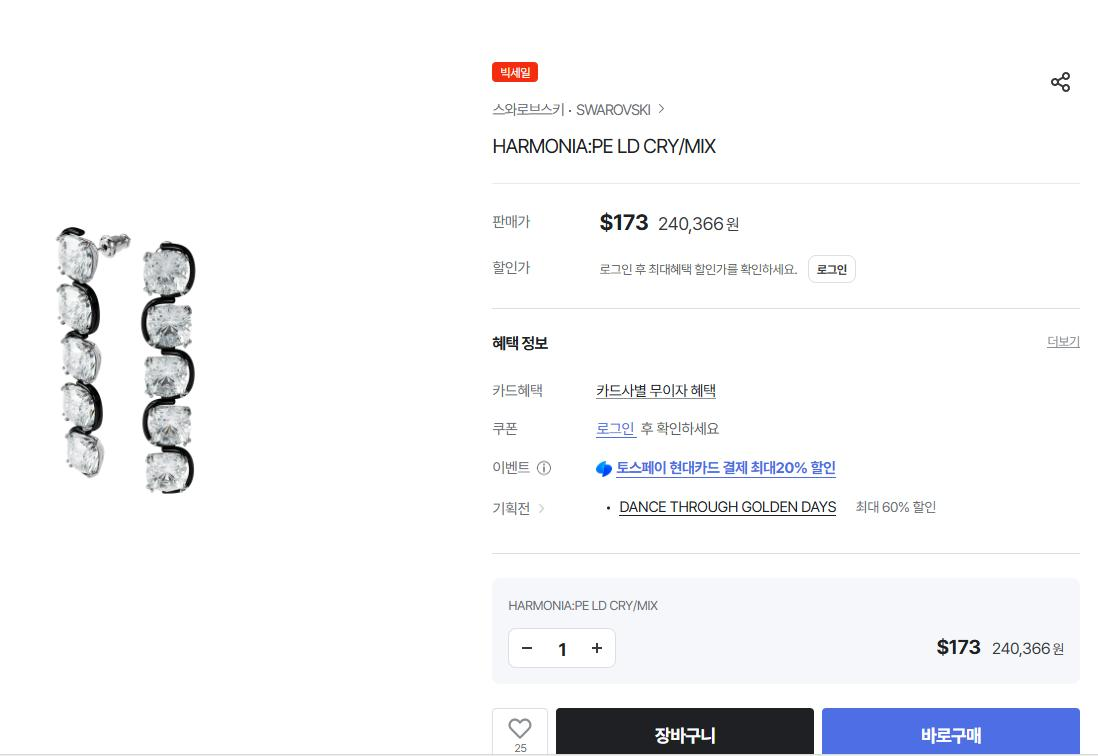button: (556, 707, 812, 756), (826, 710, 1077, 756), (612, 459, 839, 479), (511, 630, 618, 670), (608, 499, 840, 516), (493, 707, 548, 753), (596, 382, 716, 401), (569, 96, 672, 117), (1048, 68, 1089, 99), (810, 254, 858, 280), (592, 422, 640, 446), (1046, 337, 1079, 352)
